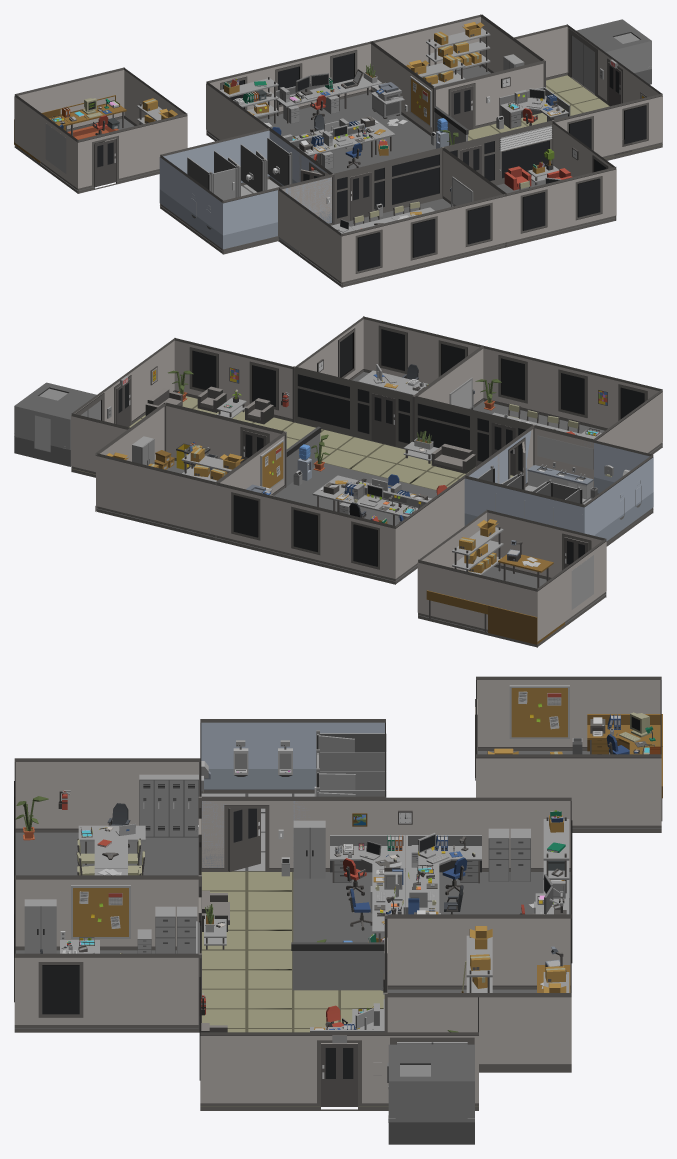
The model's file is office.obj.
3 views of the same model, one above another, from view 1: azimuth 30°, elevation 25°; view 2: azimuth 150°, elevation 25°; view 3: azimuth 270°, elevation 25° (orthographic). The views are drawn at different scales.
Visible parts, largest first — view 1: Mesh; view 2: Mesh; view 3: Mesh.
Part boxes in pixels (x1,y1,x2,y2): Mesh: [14, 14, 662, 287]; Mesh: [14, 316, 662, 647]; Mesh: [14, 676, 662, 1144].
Bounding box in the file's own units: 14.33 × 1.49 × 10.11.
Materials: 1 (1 with a texture image).
